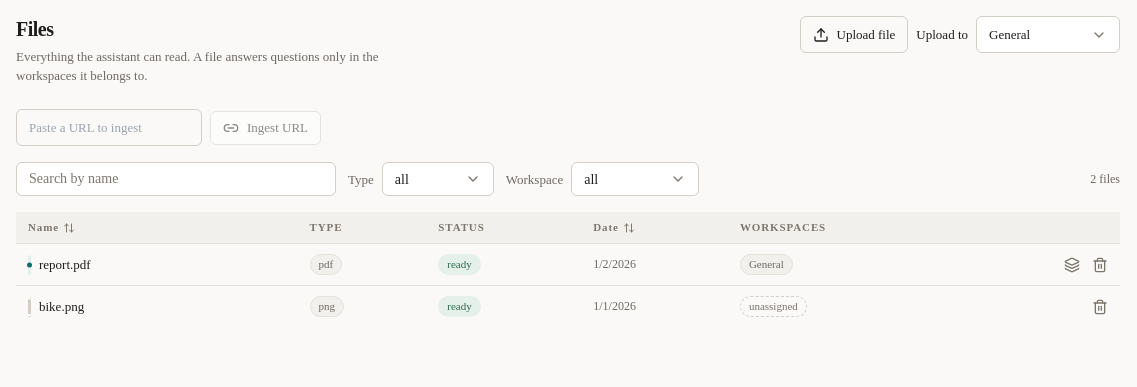
Test: FilesManager › shows an error when the URL cannot be ingested
expect the text "report.pdf" is shown: met, box [39,255,91,274]
Type "not a url" into the field named "Ingest from URL" at [109, 128], box [16,109,202,146]
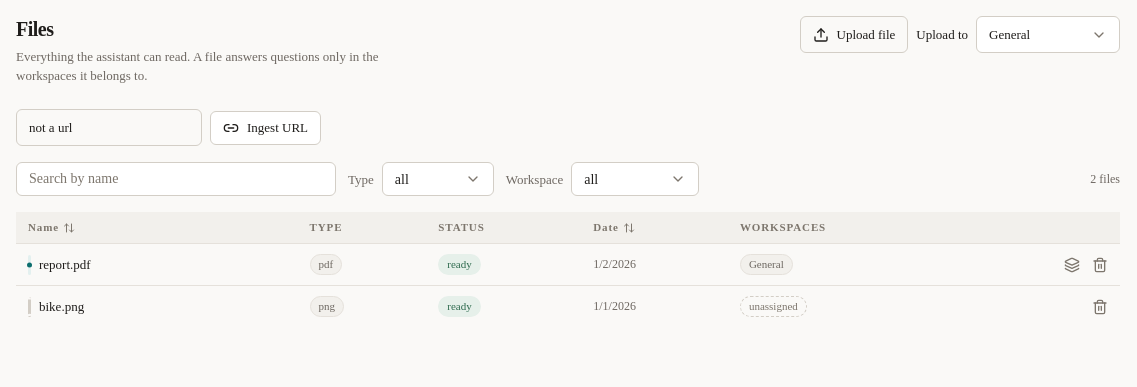
Click the button "Ingest URL" at [266, 128], box [210,110,321,144]
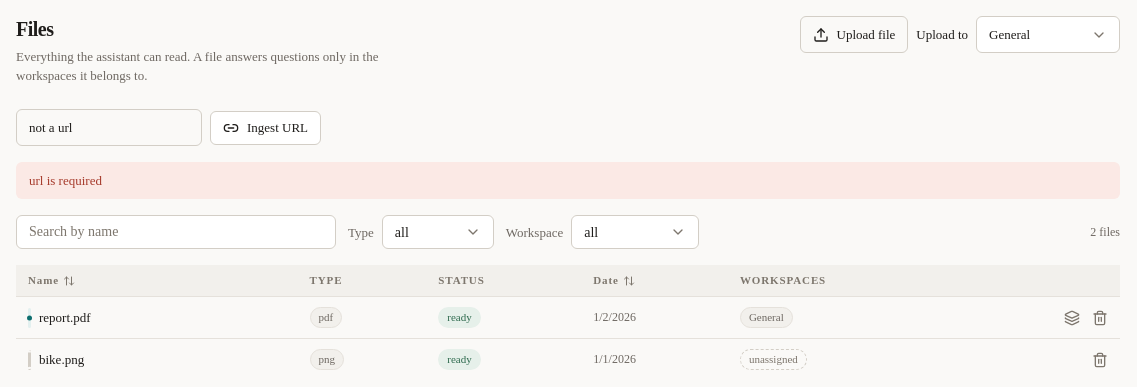
expect the message reads "url is required": met, box [29,173,102,188]
